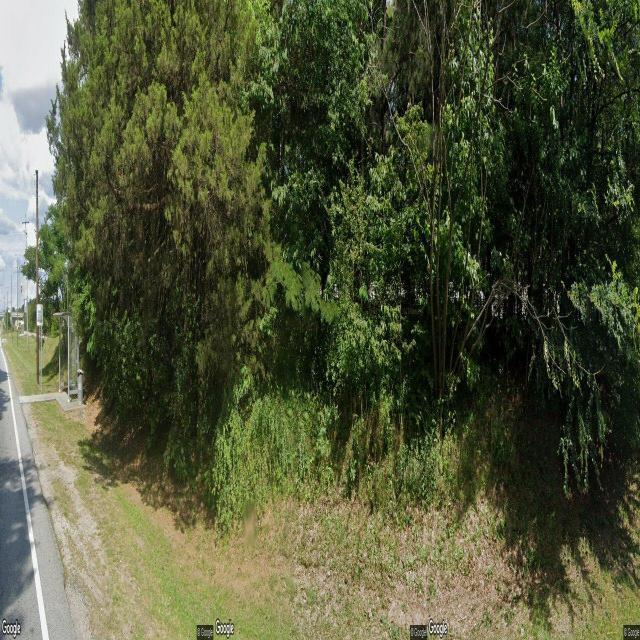seating: (69, 378, 77, 402)
shelter: (52, 309, 80, 408)
trash_can: (77, 368, 84, 406)
